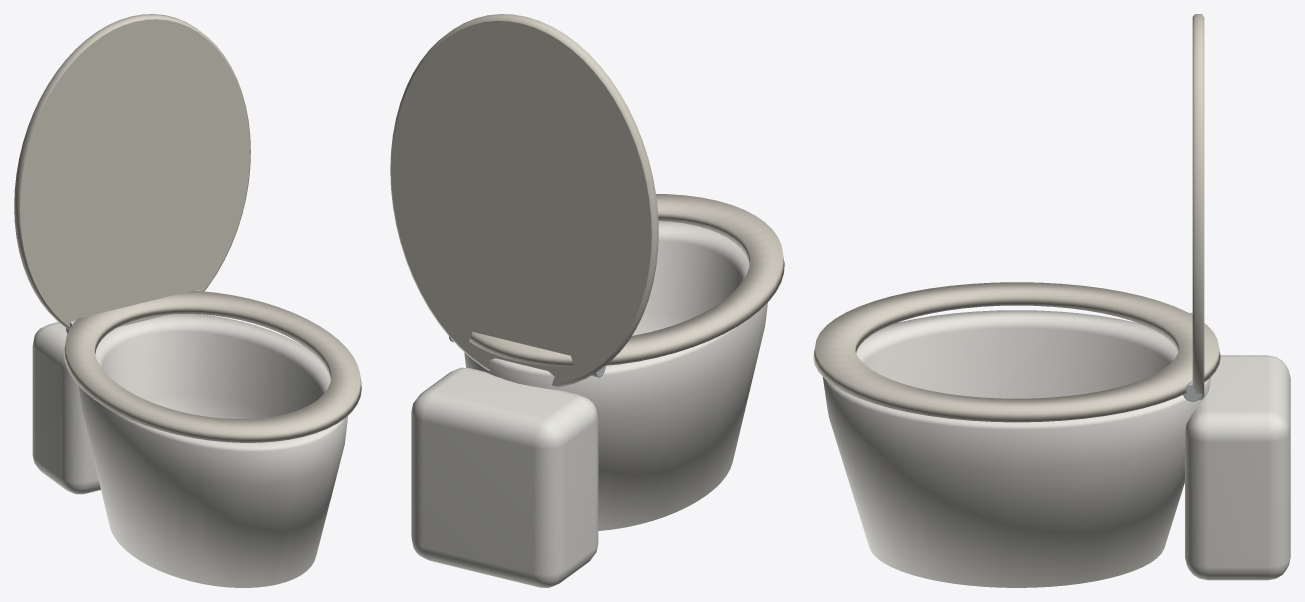
Rendered from toilet.glb.
3 views of the same model, side by side, from view 1: azimuth 30°, elevation 25°; view 2: azimuth 150°, elevation 25°; view 3: azimuth 270°, elevation 25° (orthographic). The views are drawn at different scales.
Visible parts, largest first — view 1: WC | raised lid, WC | open sanitary bowl; view 2: WC | raised lid, WC | open sanitary bowl; view 3: WC | open sanitary bowl, WC | raised lid.
Part boxes in pixels (x1,y1,x2,y2): WC | raised lid: (14, 14, 361, 442); WC | open sanitary bowl: (32, 314, 348, 587); WC | raised lid: (390, 14, 784, 387); WC | open sanitary bowl: (411, 221, 767, 587); WC | open sanitary bowl: (822, 310, 1290, 587); WC | raised lid: (813, 14, 1220, 422).
Size of the model in its own units: 0.432 by 0.8132 by 0.6681.
3 materials, 3 textured.
